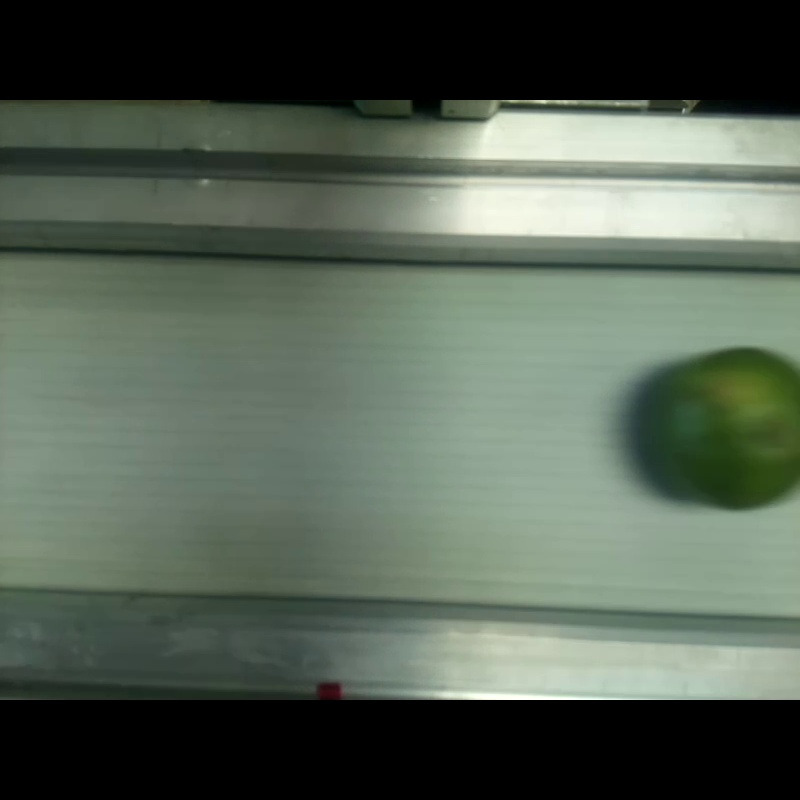lime: (643, 350, 800, 510)
